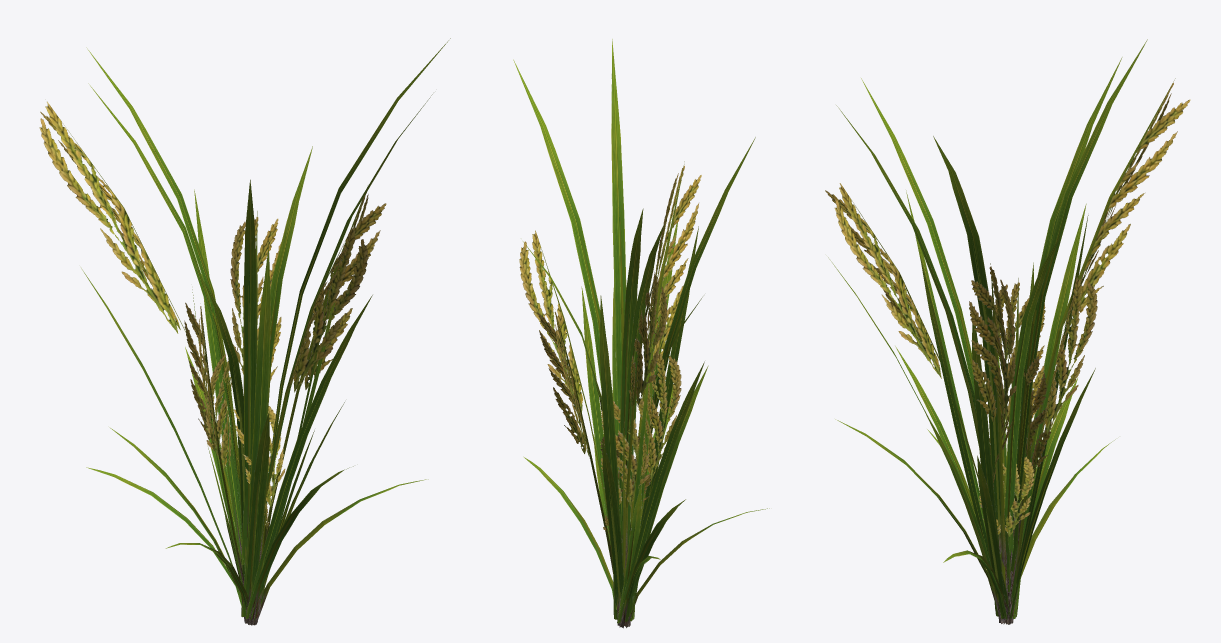
Rendered from Reworked RicePlant_LOD2.fbx.
3 views of the same model, side by side, from view 1: azimuth 30°, elevation 25°; view 2: azimuth 150°, elevation 25°; view 3: azimuth 270°, elevation 25° (orthographic). The views are drawn at different scales.
Parts seen in each view (by area): view 1: riceleaf_1, ricenose_2, stem 02_0; view 2: riceleaf_1, ricenose_2, stem 02_0; view 3: riceleaf_1, ricenose_2, stem 02_0.
Part boxes in pixels (x1=…): riceleaf_1: x1=81, y1=38, x2=450, y2=620; ricenose_2: x1=39, y1=102, x2=386, y2=529; stem 02_0: x1=58, y1=117, x2=362, y2=625; riceleaf_1: x1=513, y1=39, x2=769, y2=623; ricenose_2: x1=519, y1=165, x2=701, y2=538; stem 02_0: x1=537, y1=161, x2=711, y2=628; riceleaf_1: x1=828, y1=39, x2=1147, y2=619; ricenose_2: x1=825, y1=82, x2=1190, y2=536; stem 02_0: x1=852, y1=78, x2=1175, y2=624.
Size of the model in its own units: 69.98 by 122 by 74.34.
Materials: 3 (3 with a texture image).
